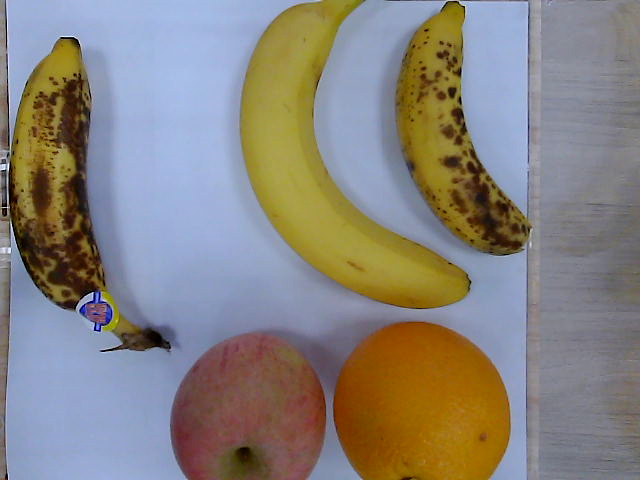fresh_apple: (169, 333, 327, 480)
fresh_banana: (239, 1, 472, 308)
fresh_orange: (335, 322, 511, 480)
rotten_banana: (11, 38, 165, 355), (396, 3, 534, 257)
